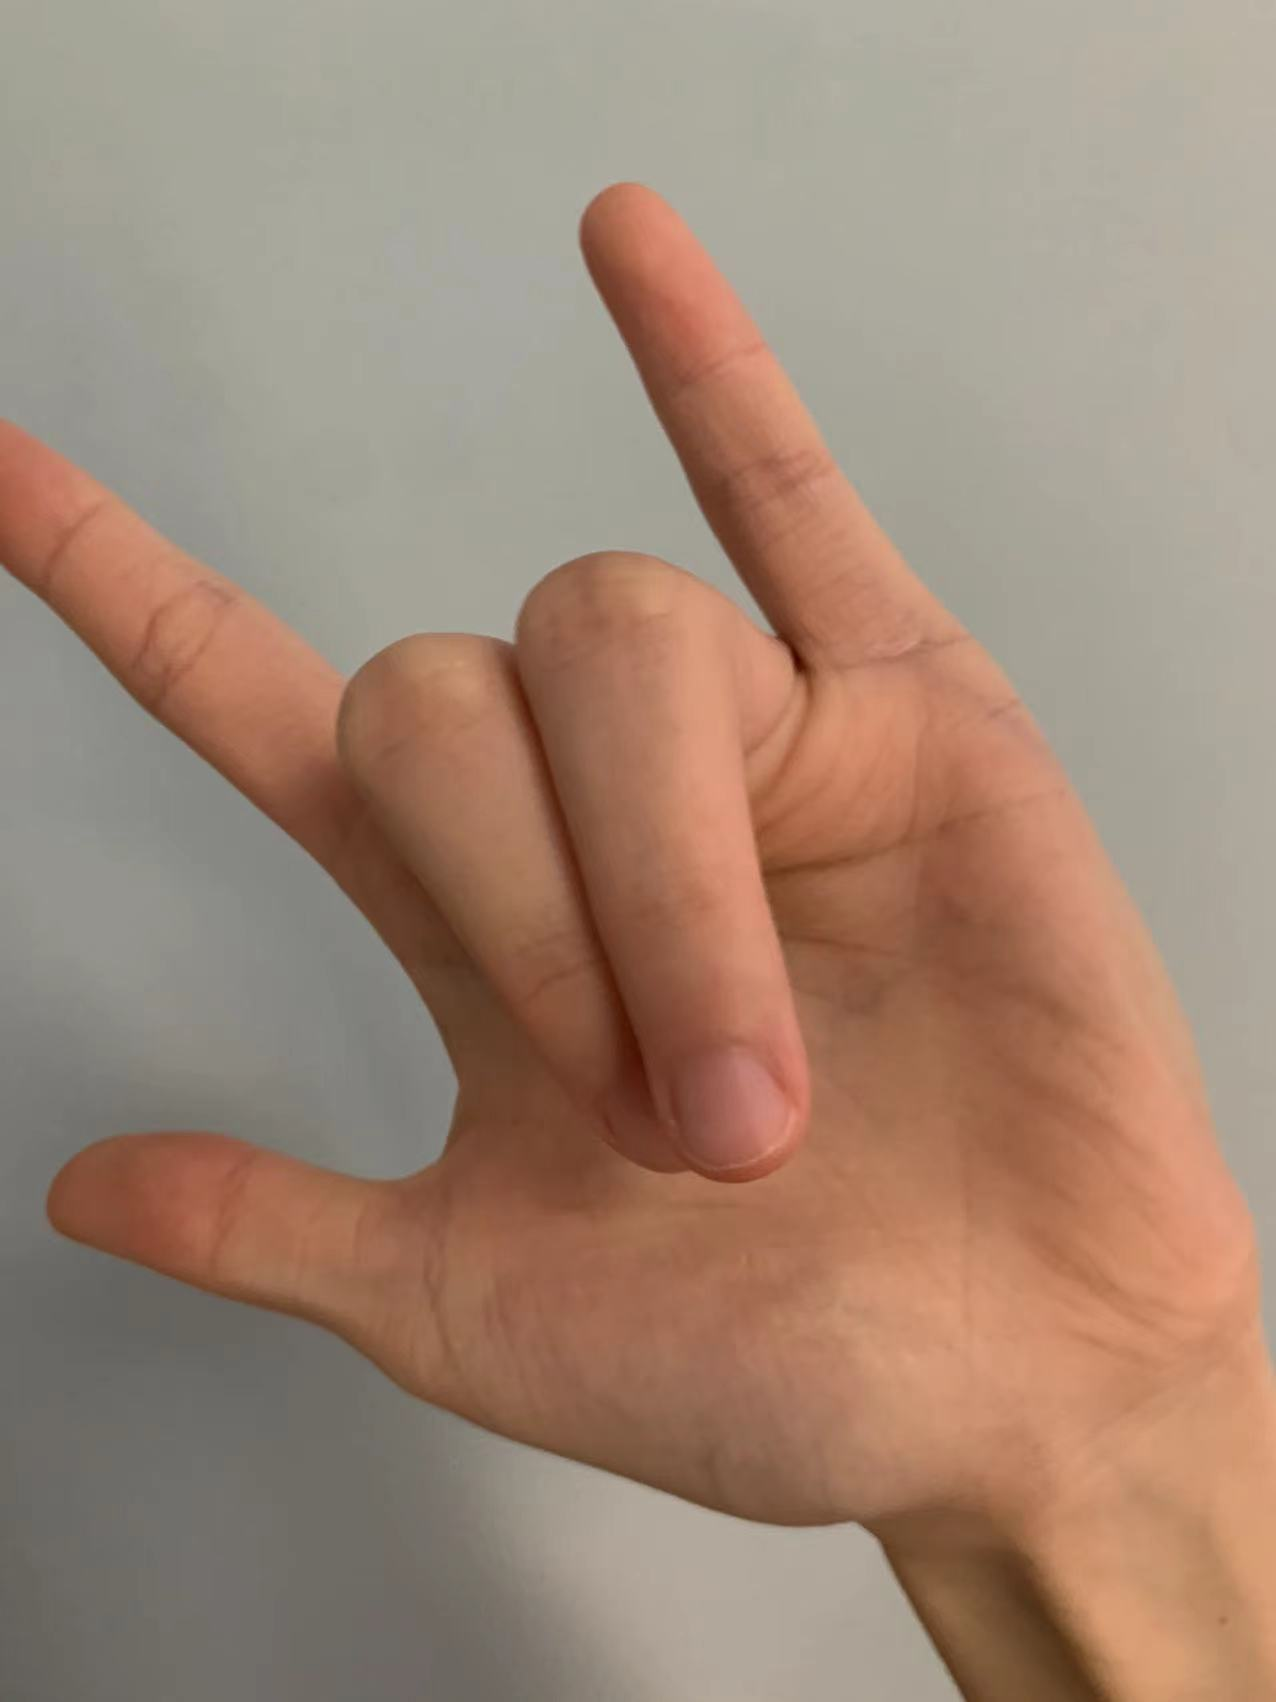back: (11, 178, 1182, 1536)
